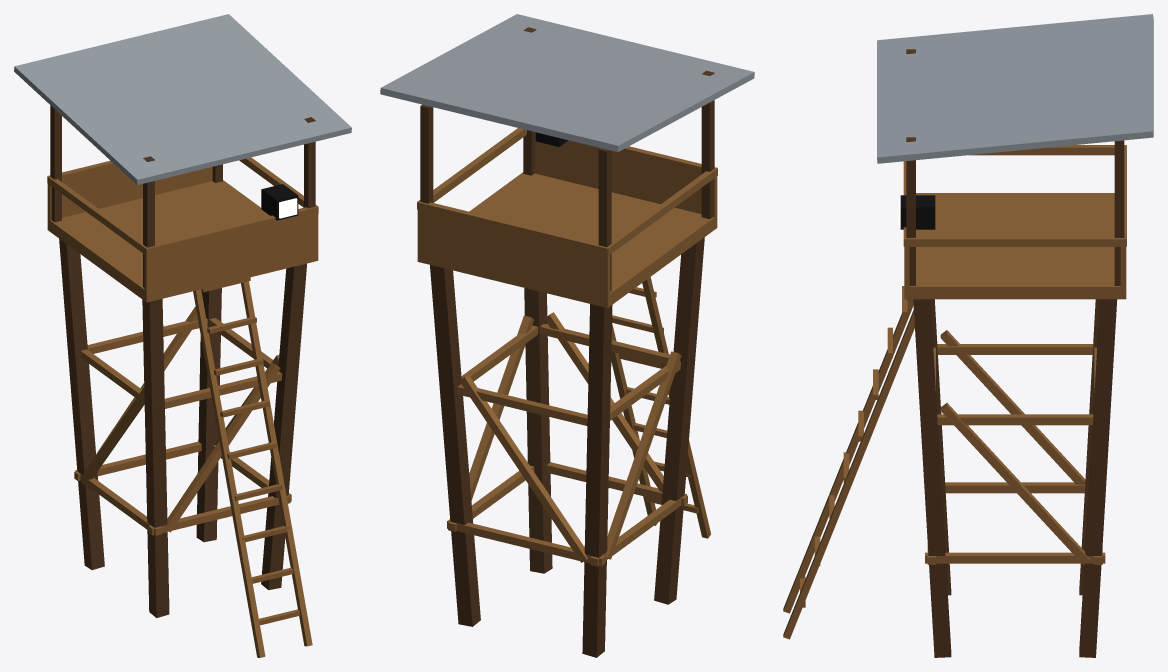
File: Torre de vigilancia.fbx
The picture shows the model from 3 angles, left to right: view 1: azimuth 30°, elevation 25°; view 2: azimuth 150°, elevation 25°; view 3: azimuth 270°, elevation 25°; orthographic projection. The views are drawn at different scales.
Visible parts, largest first — view 1: Torre de vigilancia; view 2: Torre de vigilancia; view 3: Torre de vigilancia.
Boxes of the visible parts, x1,y1,x2,y2 form: Torre de vigilancia: [14, 14, 351, 657]; Torre de vigilancia: [380, 14, 754, 657]; Torre de vigilancia: [783, 14, 1153, 657].
Size of the model in its own units: 2 by 4.39 by 2.67.
